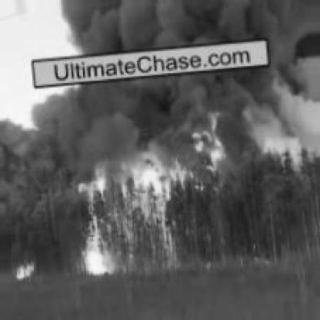Smoke: (53, 1, 307, 124)
